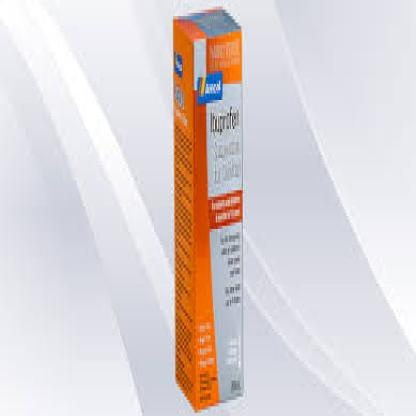trash: (173, 8, 243, 410)
